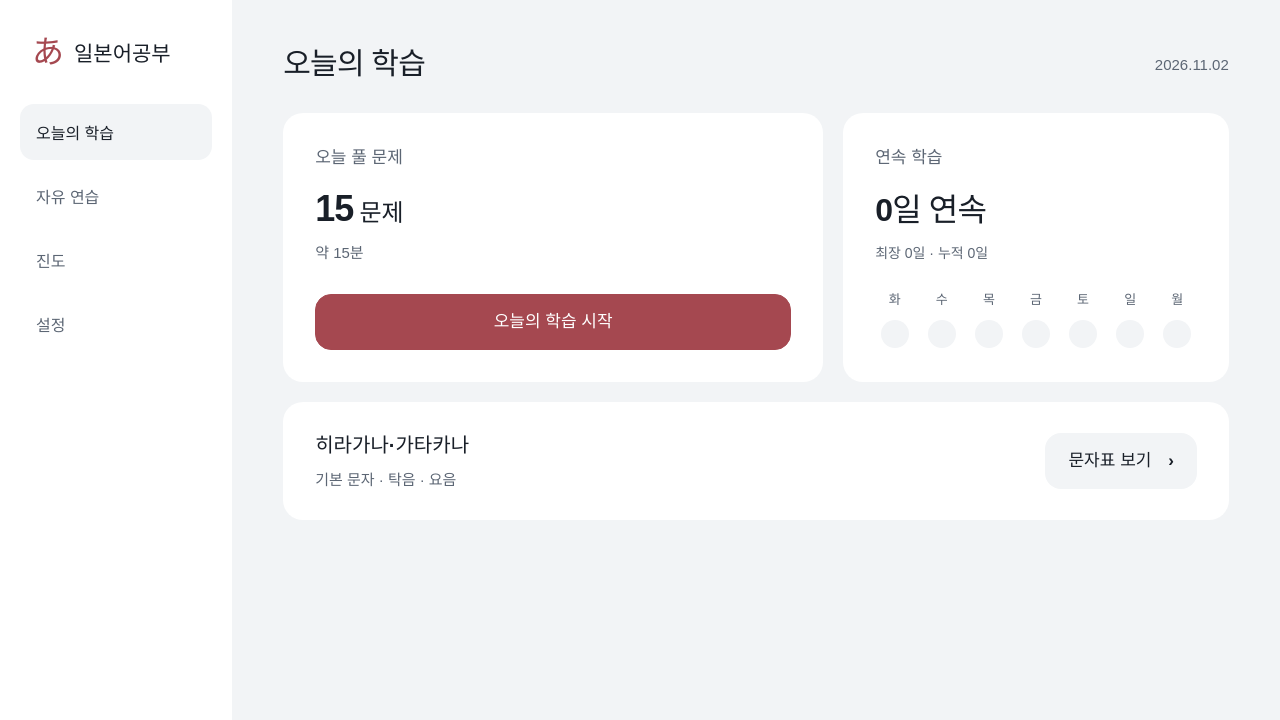
Test: opens both kana charts from daily study without changing progress
Expected: the button "오늘의 학습" is shown, [20,104,212,160]
Click the button "문자표 보기 ›": (1121, 461) [1046,433,1197,489]
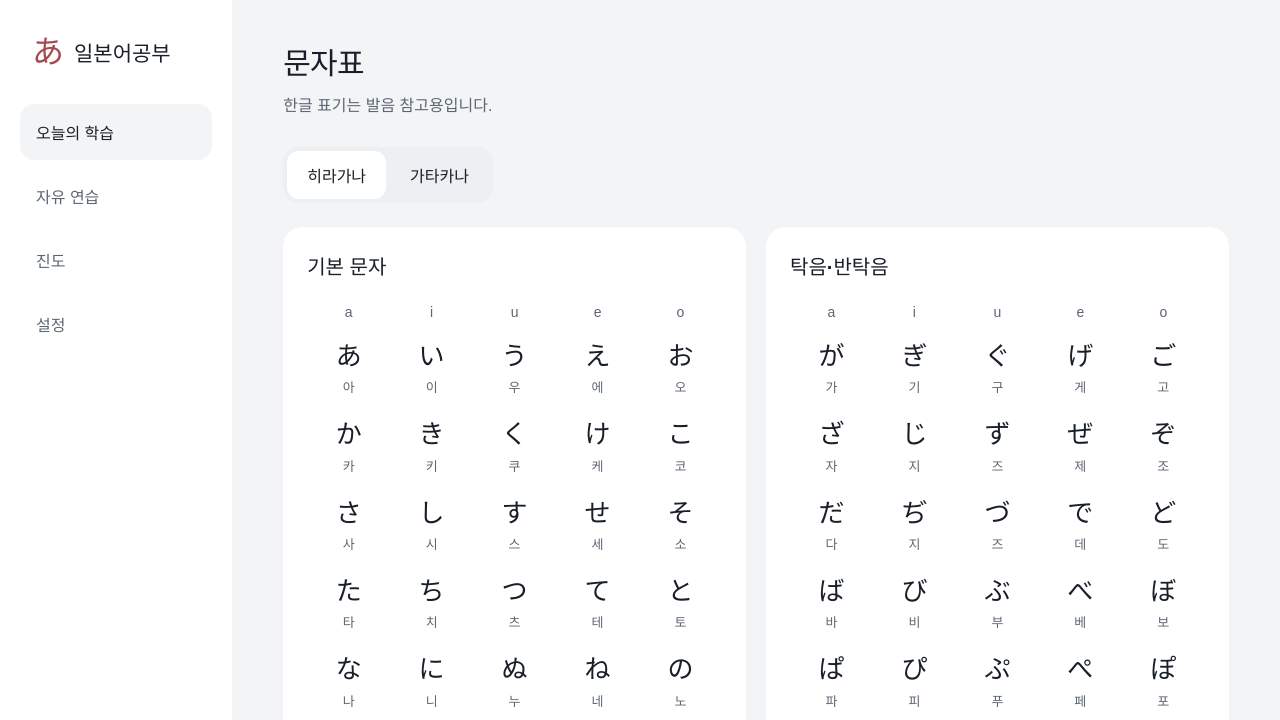
Expected: the heading "문자표" is shown, [283,47,364,80]
Expected: the text "あ" below "기본 문자" is shown, [336,341,362,371]
Expected: the text "が" is shown, [818,341,844,371]
Click the button "가타카나": (440, 175) [390,151,489,199]
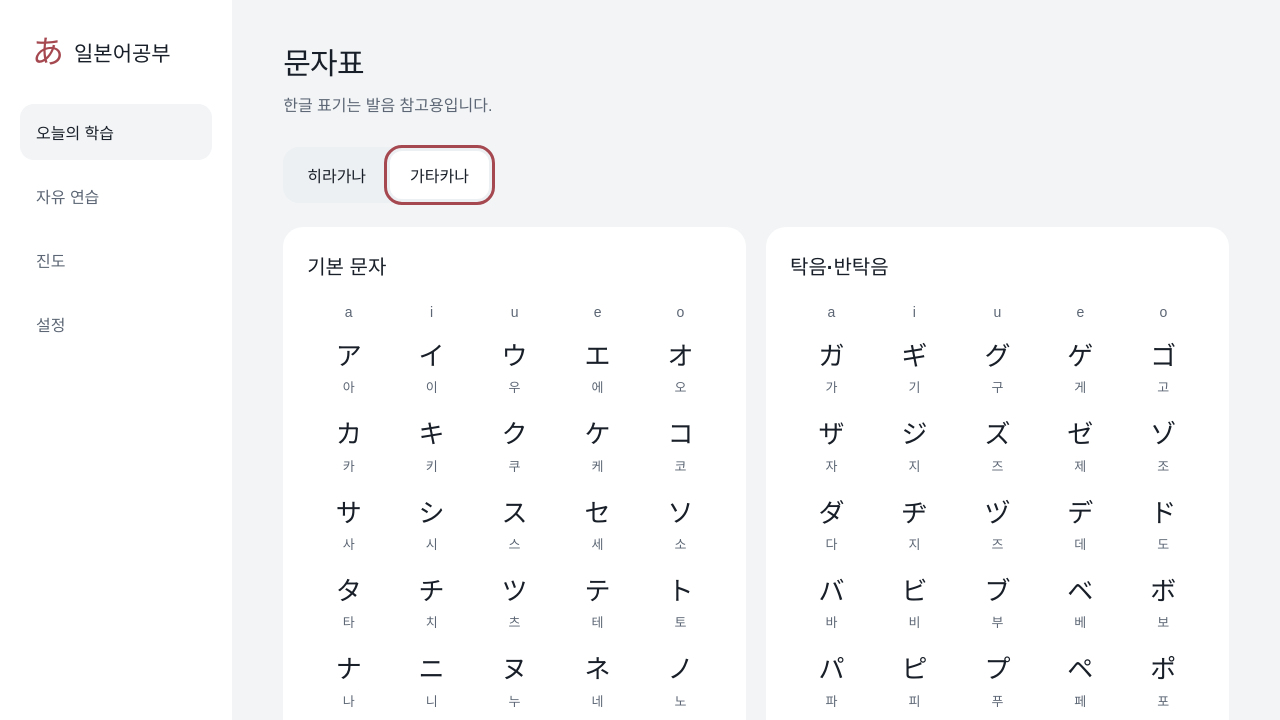
Expected: the text "ア" is shown, [336,341,362,371]
Expected: the text "ガ" is shown, [818,341,844,371]
Click the button "오늘의 학습": (116, 132) [20,104,212,160]
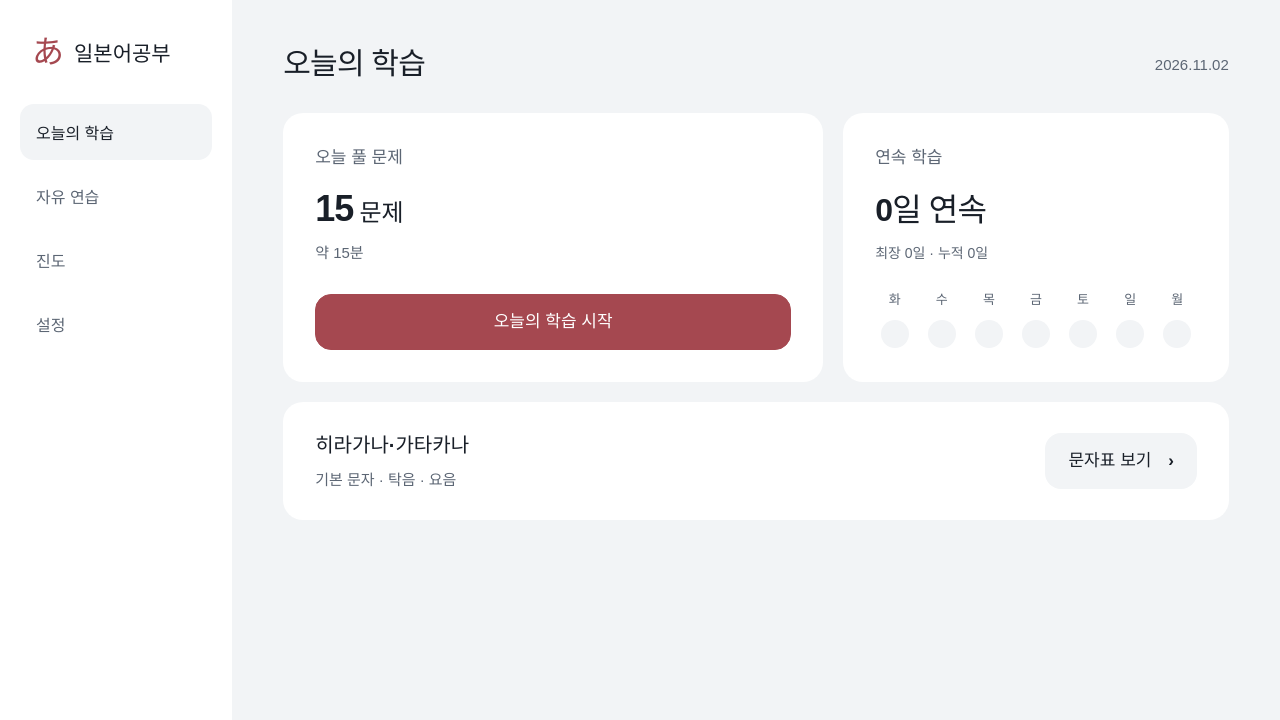
Expected: the button "문자표 보기 ›" is shown, [1046,433,1197,489]
